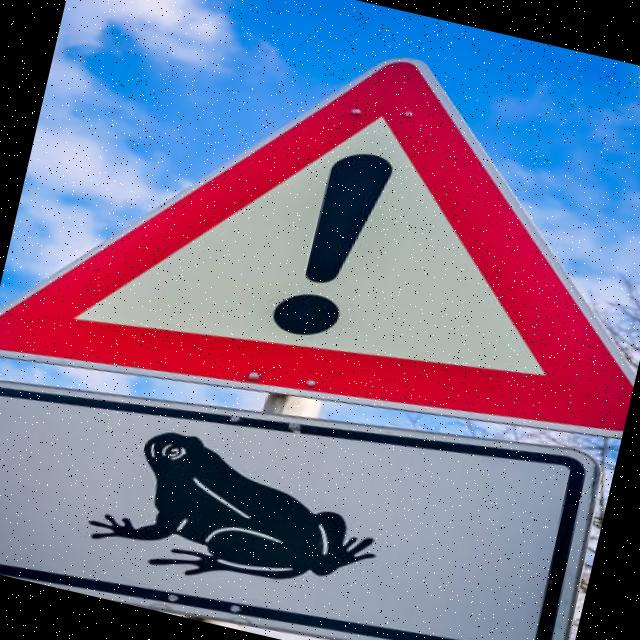warning: (0, 0, 640, 494)
